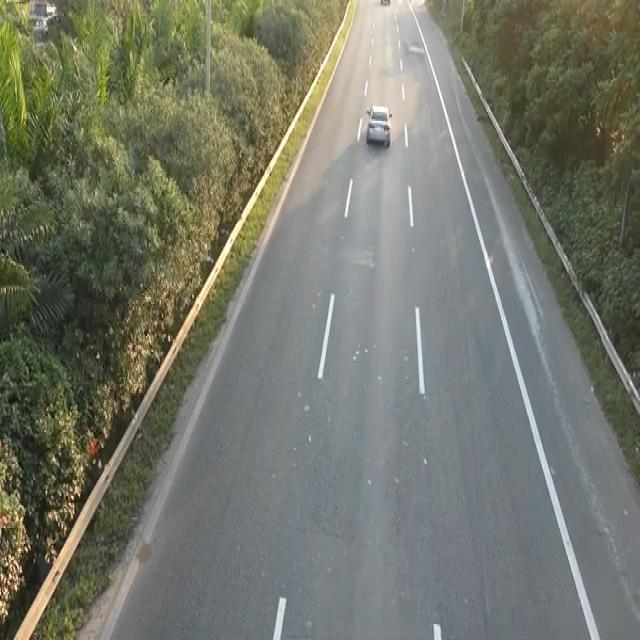bus: (364, 100, 393, 150)
